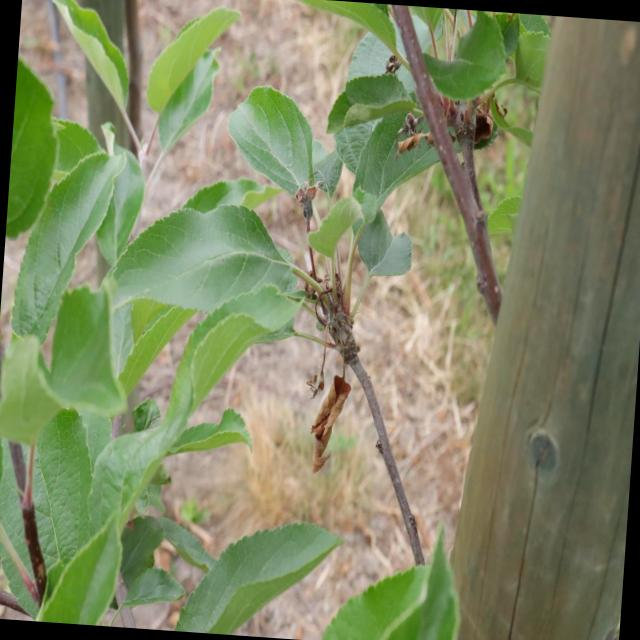-FireBlight-: (296, 354, 356, 476)
